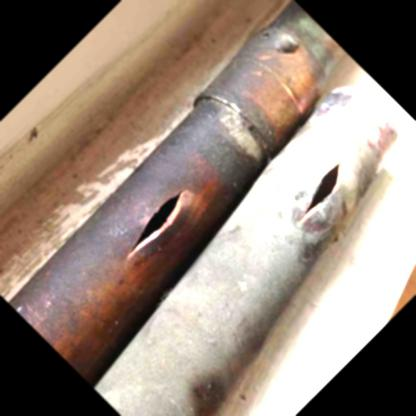burst: (123, 199, 204, 251), (292, 151, 339, 221)
